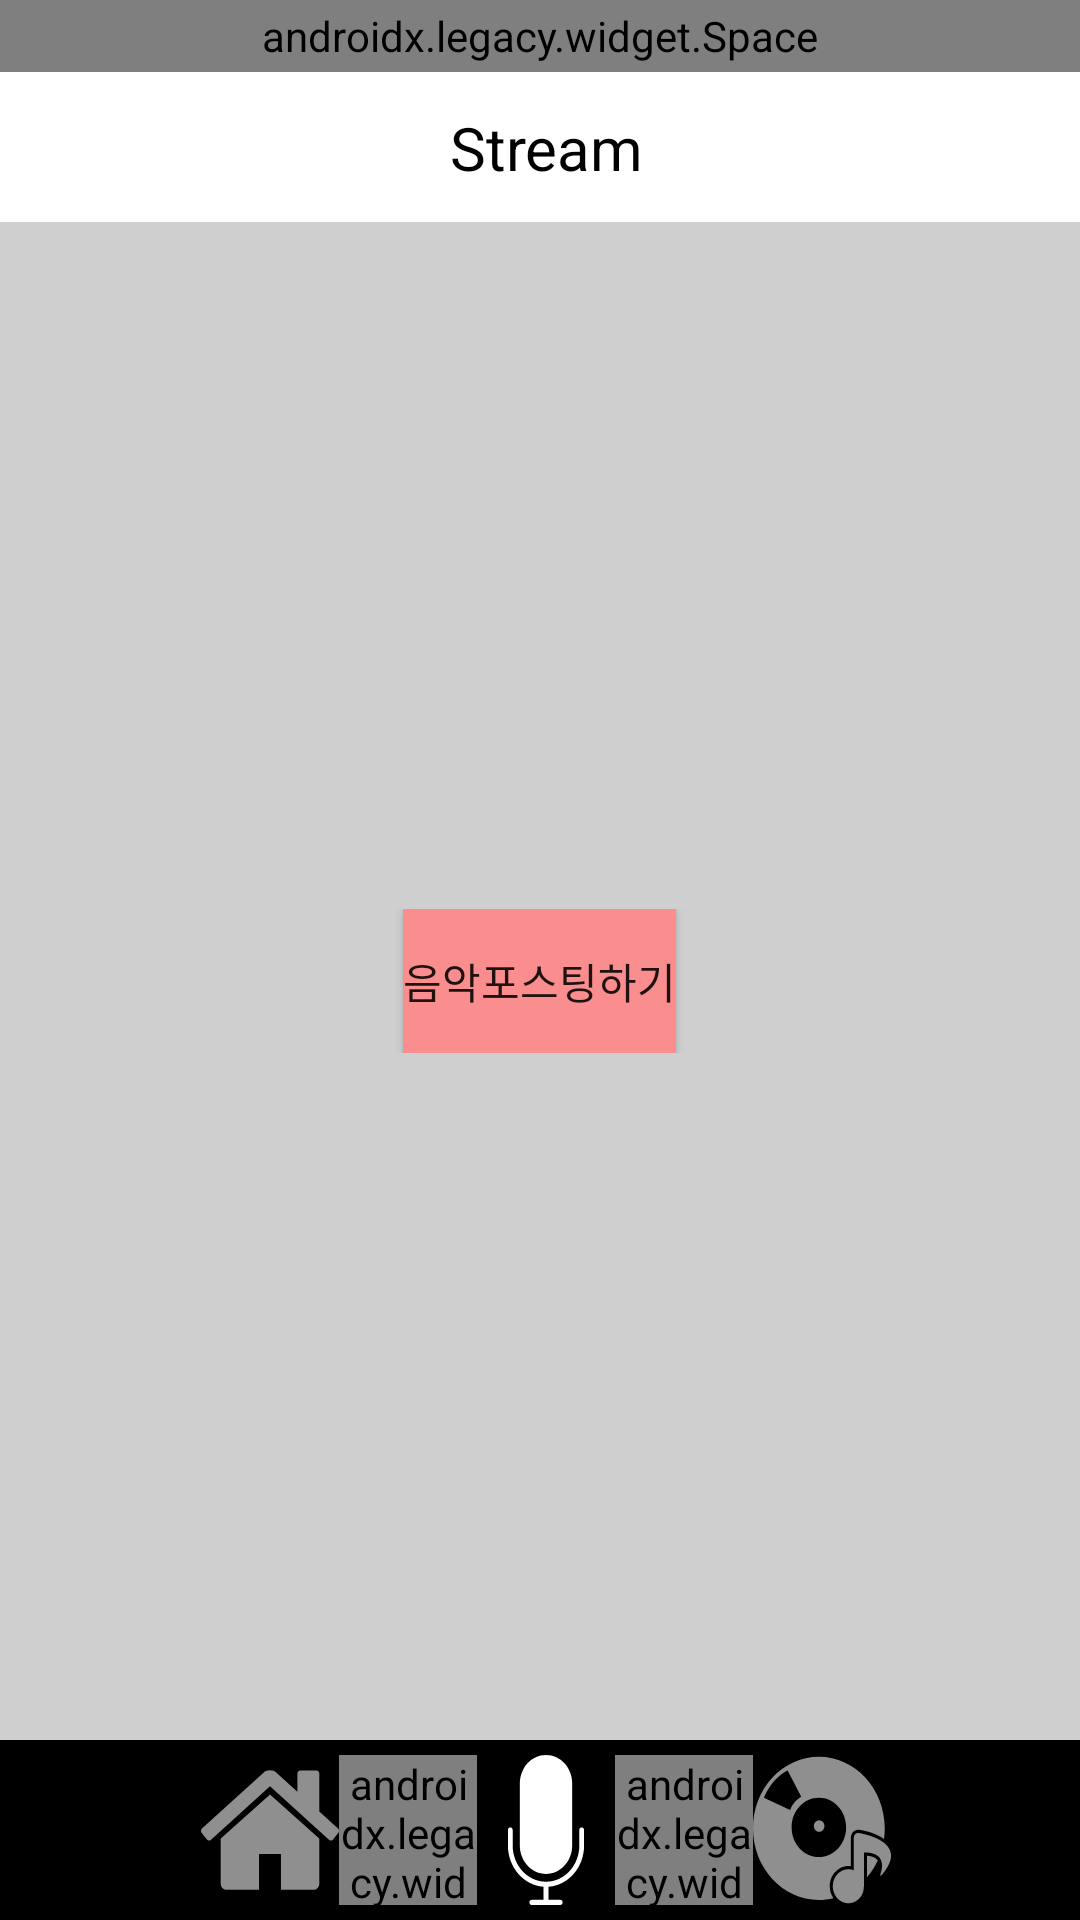

Named icons in this screenshot (1080 x 1920) and their bounding boxes, (x1, y1, x2, y2):
home: (220, 1795, 320, 1890)
microphone clicked: (508, 1755, 584, 1905)
music album: (753, 1756, 891, 1904)
